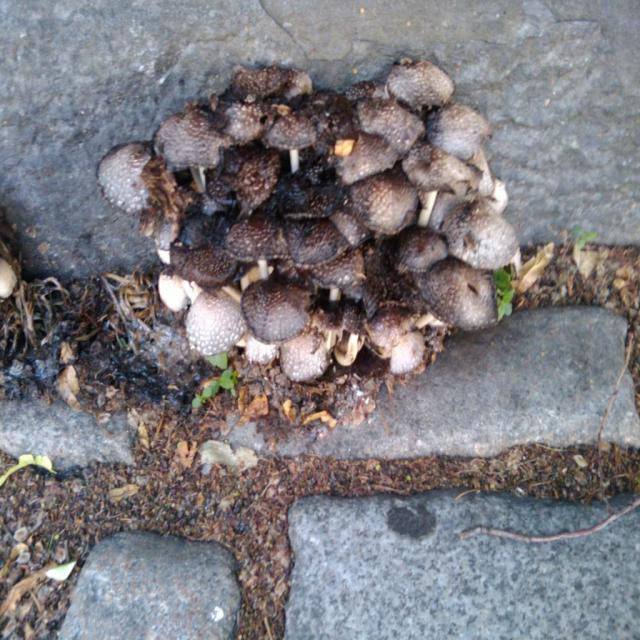Mushroom: (97, 57, 517, 380)
